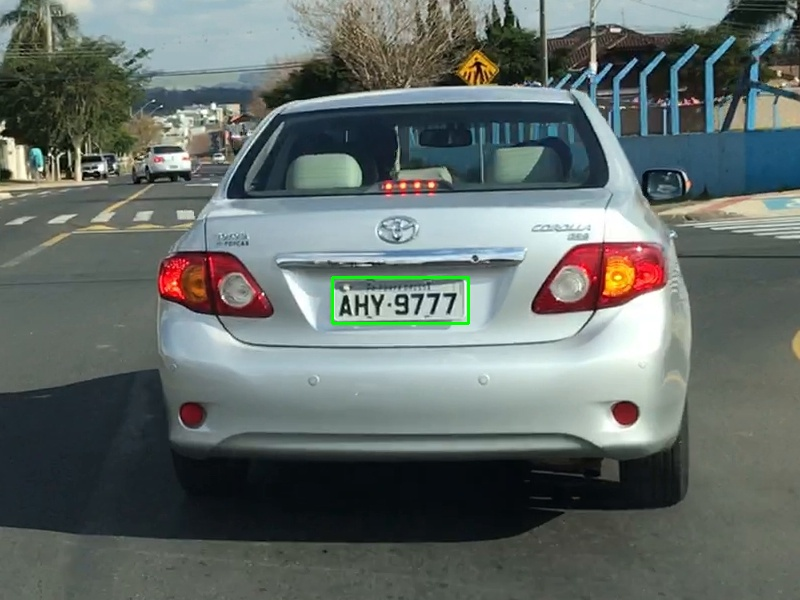placa: (332, 277, 468, 323)
